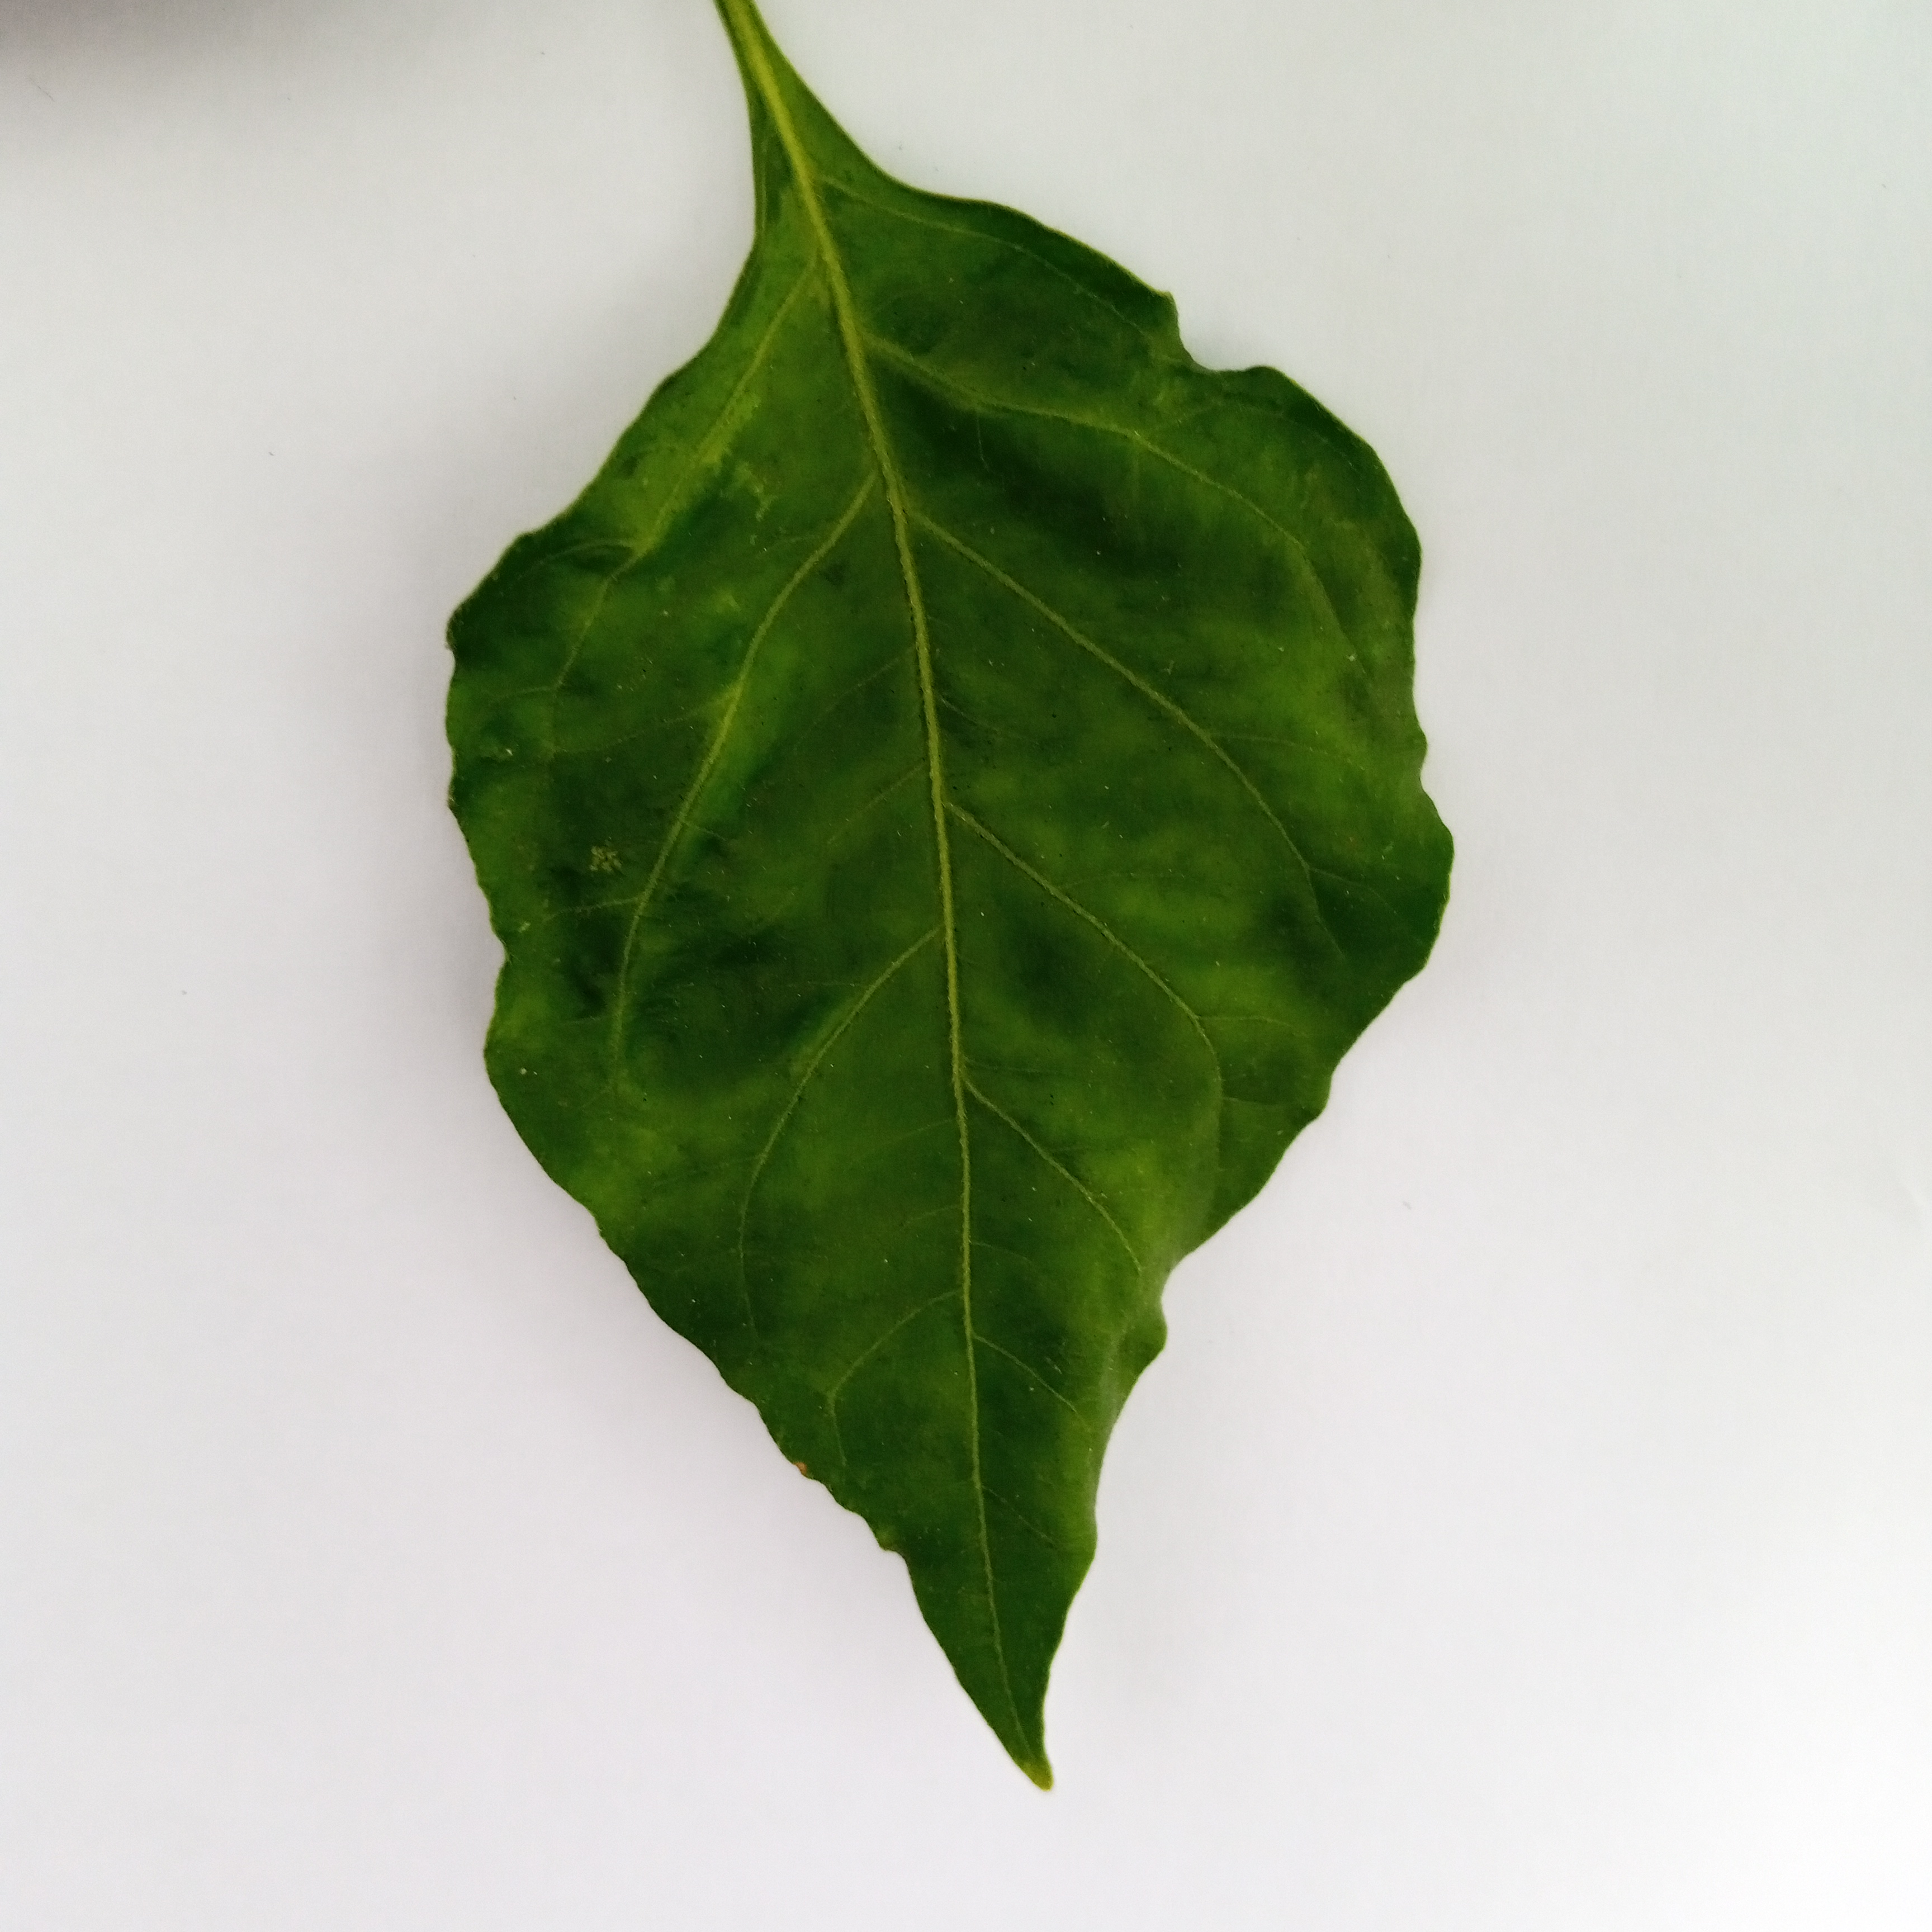Leaf: (318, 48, 1548, 1858)
